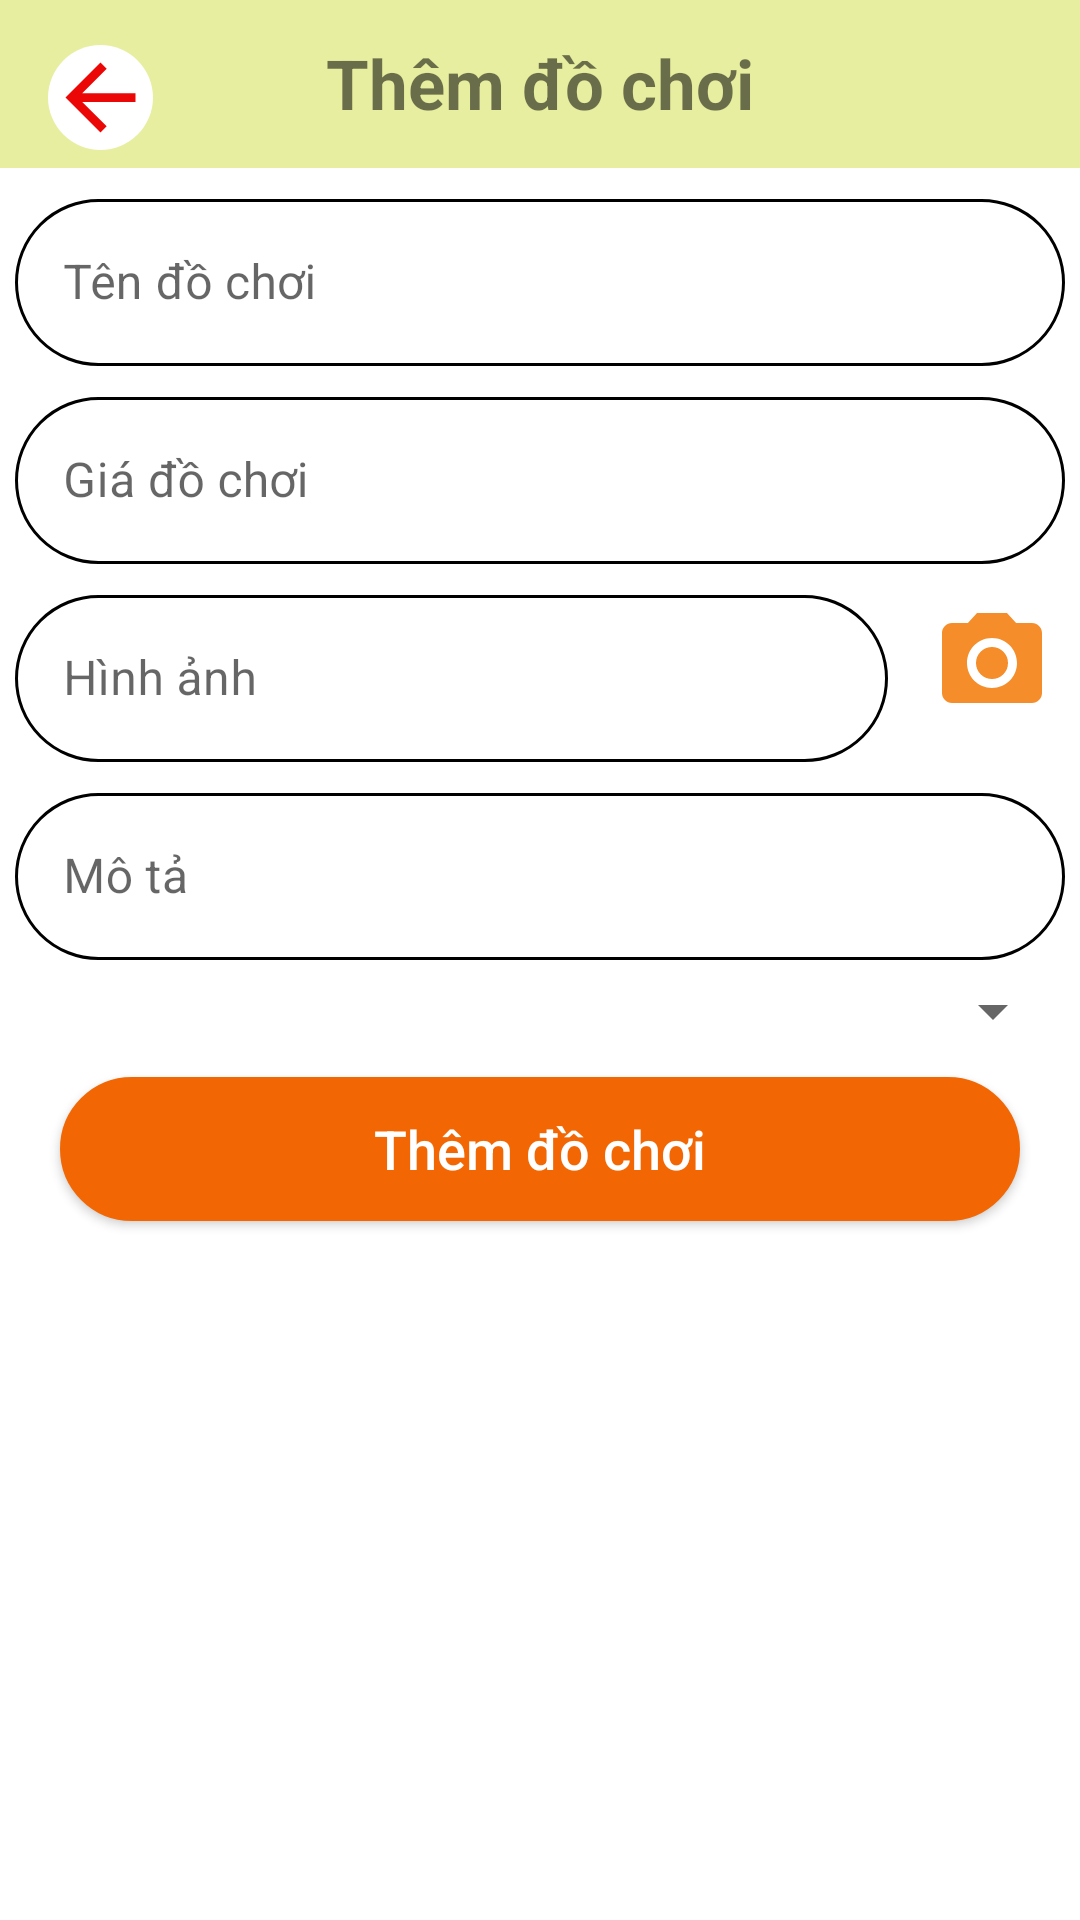

Point at icon controls on the screen. Image size 1080x1920, points as [x,y].
arrow back: [100,97]
camera: [992,658]
